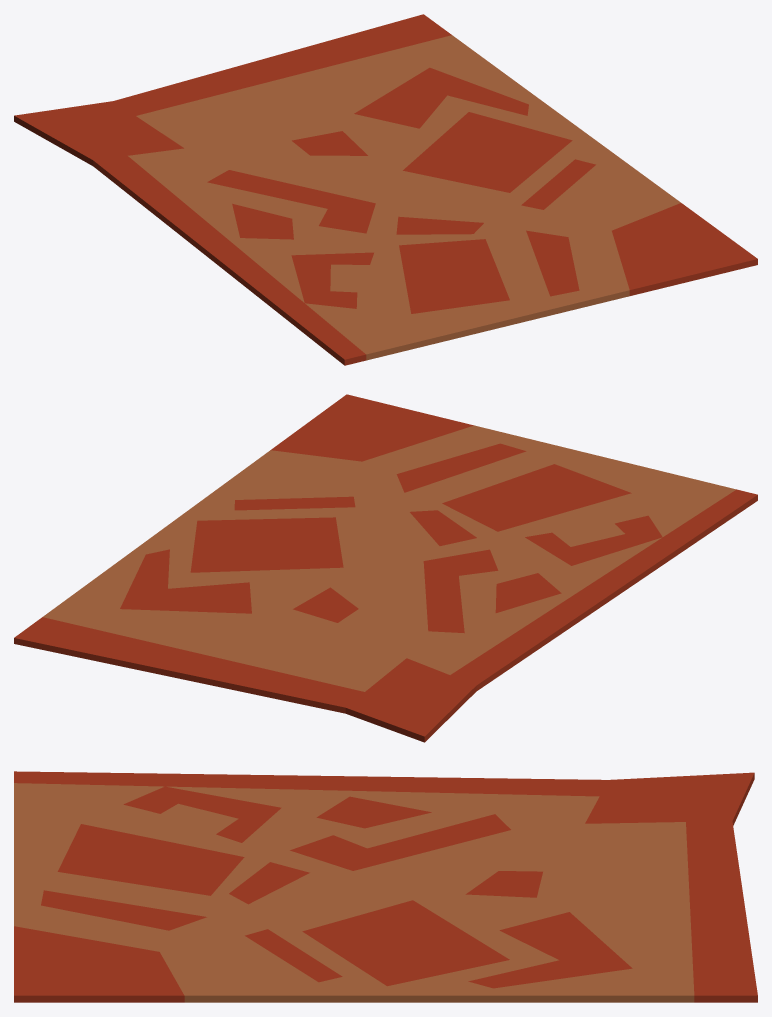
File: carpetSection.glb
3 views of the same model, one above another, from view 1: azimuth 30°, elevation 25°; view 2: azimuth 150°, elevation 25°; view 3: azimuth 270°, elevation 25° (orthographic). The views are drawn at different scales.
Parts seen in each view (by area): view 1: cloth; view 2: cloth; view 3: cloth.
Part boxes in pixels (left/top/right/bottom): cloth: left=14, top=14, right=757, bottom=365; cloth: left=14, top=394, right=757, bottom=742; cloth: left=14, top=771, right=757, bottom=1002.
Size of the model in its own units: 0.5883 by 0.00825 by 0.8245.
